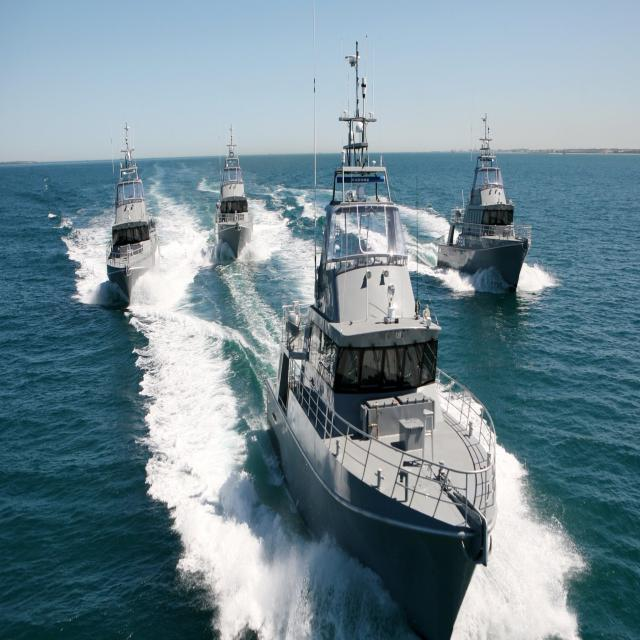houseboat: (267, 50, 497, 626), (437, 106, 529, 296), (106, 108, 157, 299), (211, 128, 256, 258)
